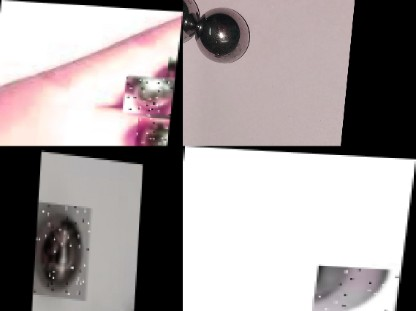ironball: (33, 200, 91, 299), (313, 264, 404, 311), (197, 6, 254, 63), (124, 73, 176, 115), (179, 1, 210, 46), (135, 115, 172, 146), (164, 53, 178, 94), (119, 306, 135, 311)
